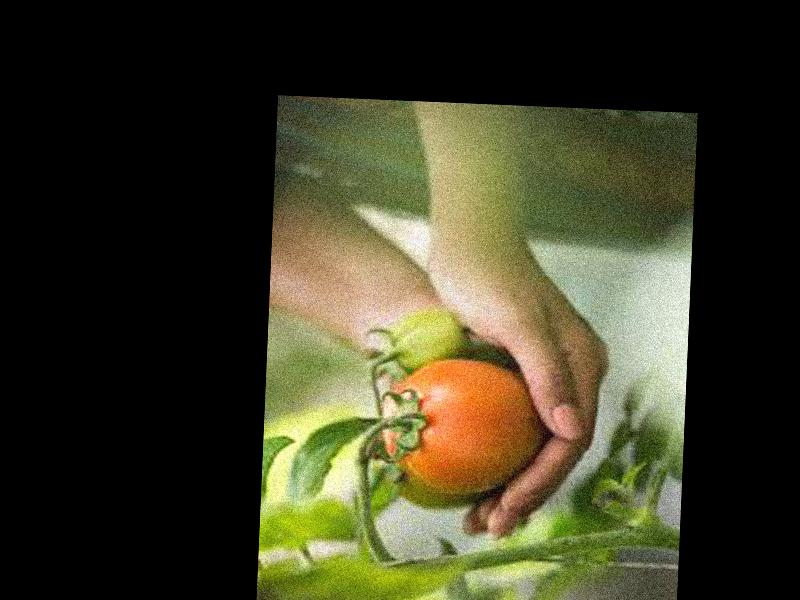Tomato: (381, 356, 540, 495)
